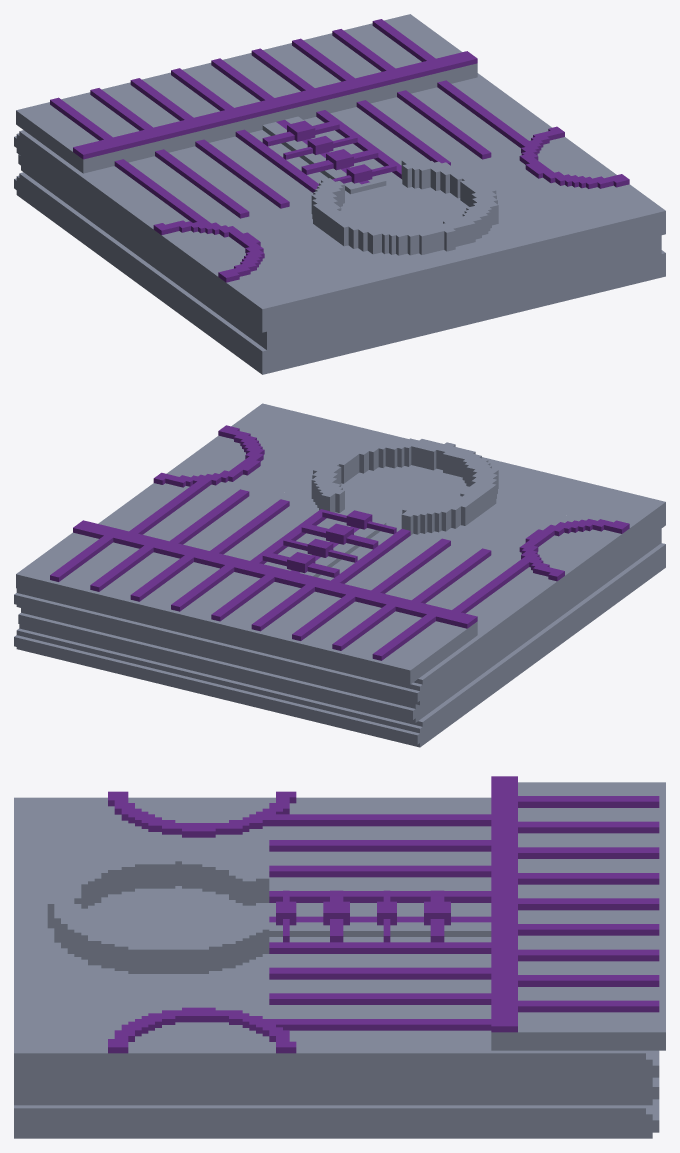
The model's file is gambeson_parabolan_vest.glb.
3 views of the same model, one above another, from view 1: azimuth 30°, elevation 25°; view 2: azimuth 150°, elevation 25°; view 3: azimuth 270°, elevation 25° (orthographic). The views are drawn at different scales.
Visible parts, largest first — view 1: gambeson_parabolan_vest:compound; view 2: gambeson_parabolan_vest:compound; view 3: gambeson_parabolan_vest:compound.
Boxes of the visible parts, x1=… form: gambeson_parabolan_vest:compound: x1=14, y1=14, x2=665, y2=374; gambeson_parabolan_vest:compound: x1=14, y1=403, x2=665, y2=747; gambeson_parabolan_vest:compound: x1=14, y1=776, x2=665, y2=1138.
Bounding box in the file's own units: 0.36 × 0.072 × 0.388.
